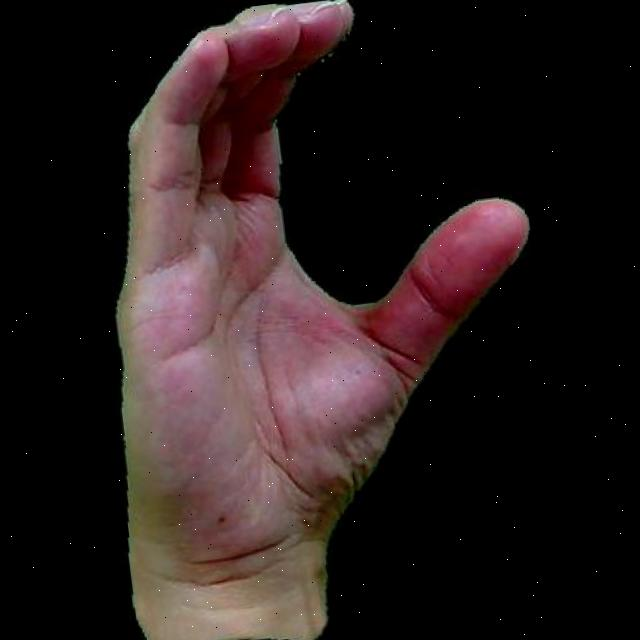c: (36, 0, 584, 640)
